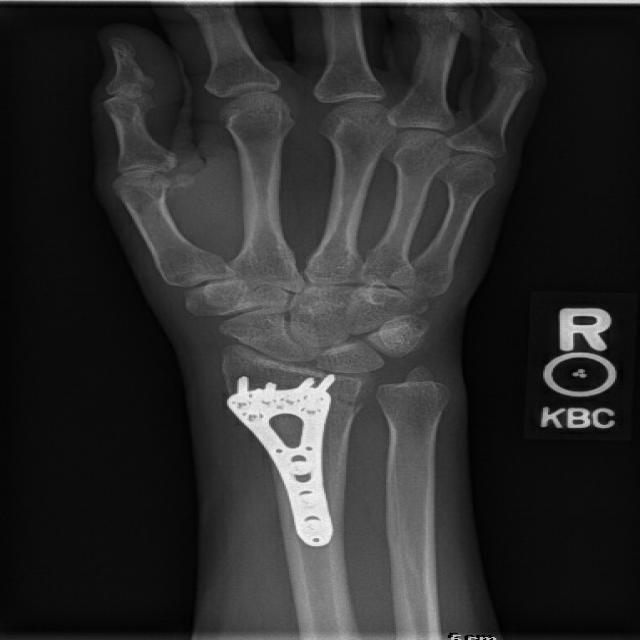x-ray: (222, 367, 386, 555)
